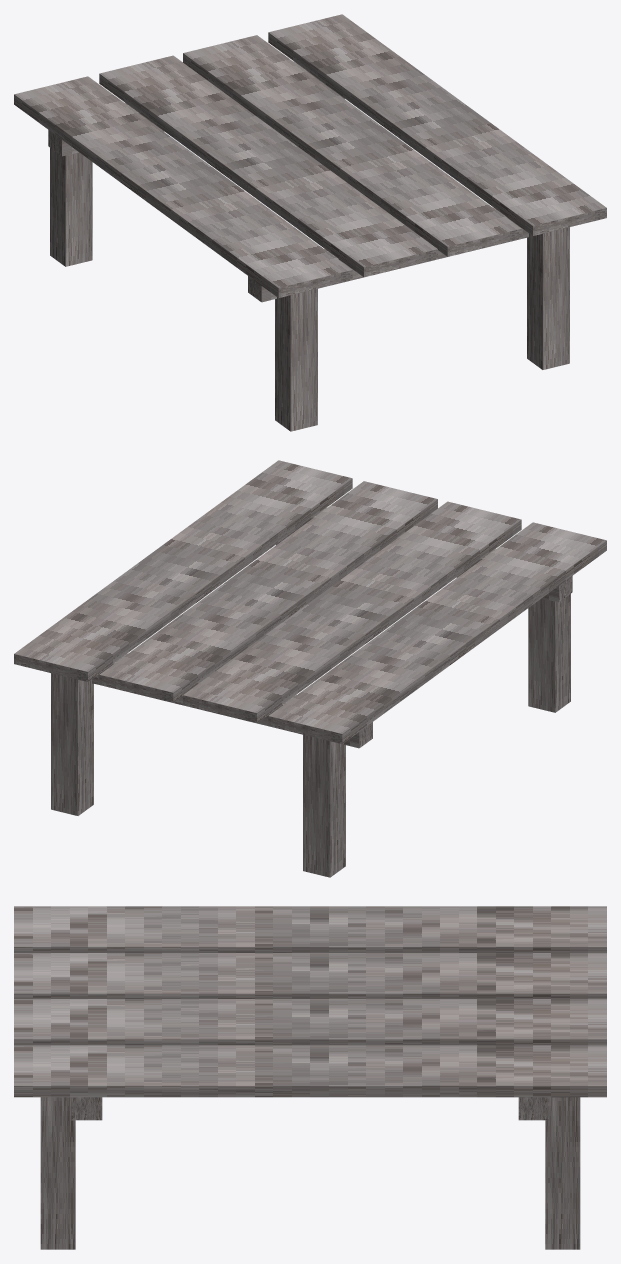
The model's file is Table.fbx.
3 views of the same model, one above another, from view 1: azimuth 30°, elevation 25°; view 2: azimuth 150°, elevation 25°; view 3: azimuth 270°, elevation 25° (orthographic). The views are drawn at different scales.
Visible parts, largest first — view 1: Table; view 2: Table; view 3: Table.
Boxes of the visible parts, <box> form: Table: <box>14,14,606,431</box>; Table: <box>14,460,606,877</box>; Table: <box>14,906,606,1249</box>.
Bounding box in the file's own units: 239 × 110 × 333.
